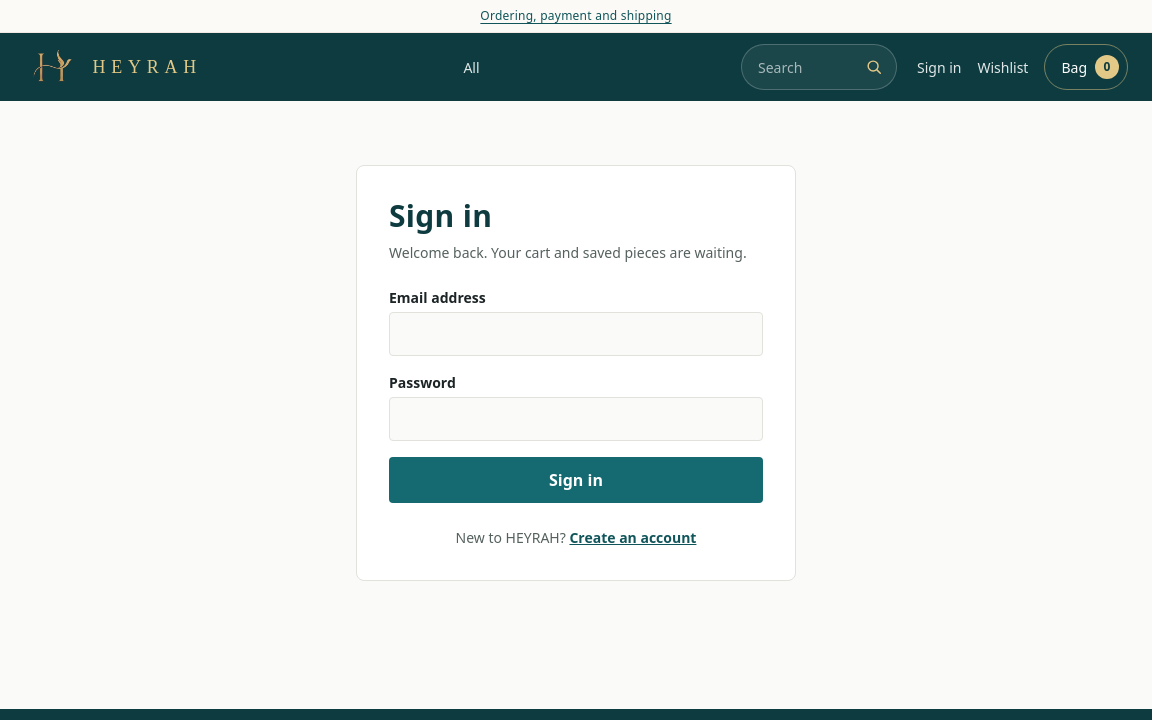
Test: LoginPage › submits credentials and shows a generic failure on invalid login
Type "amira@example.com" into the field labelled "Email address" at (576, 334), box [389, 312, 763, 356]
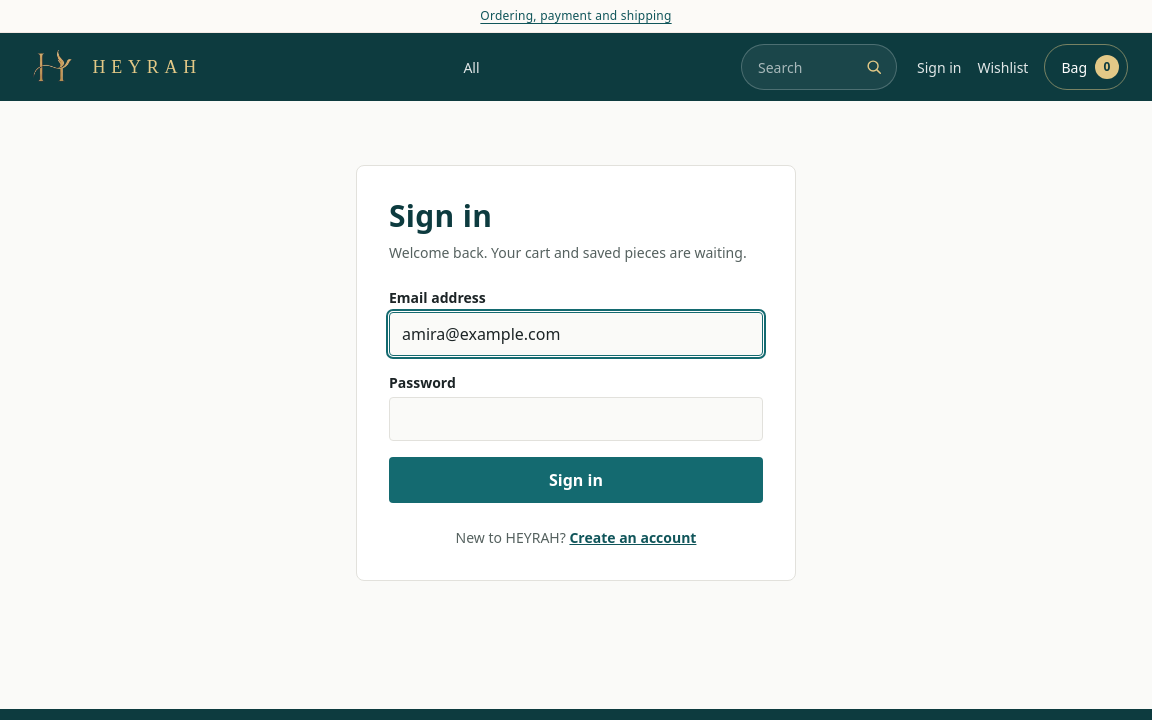
Type "wrong-pass" into the password field labelled "Password" at (576, 419), box [389, 397, 763, 441]
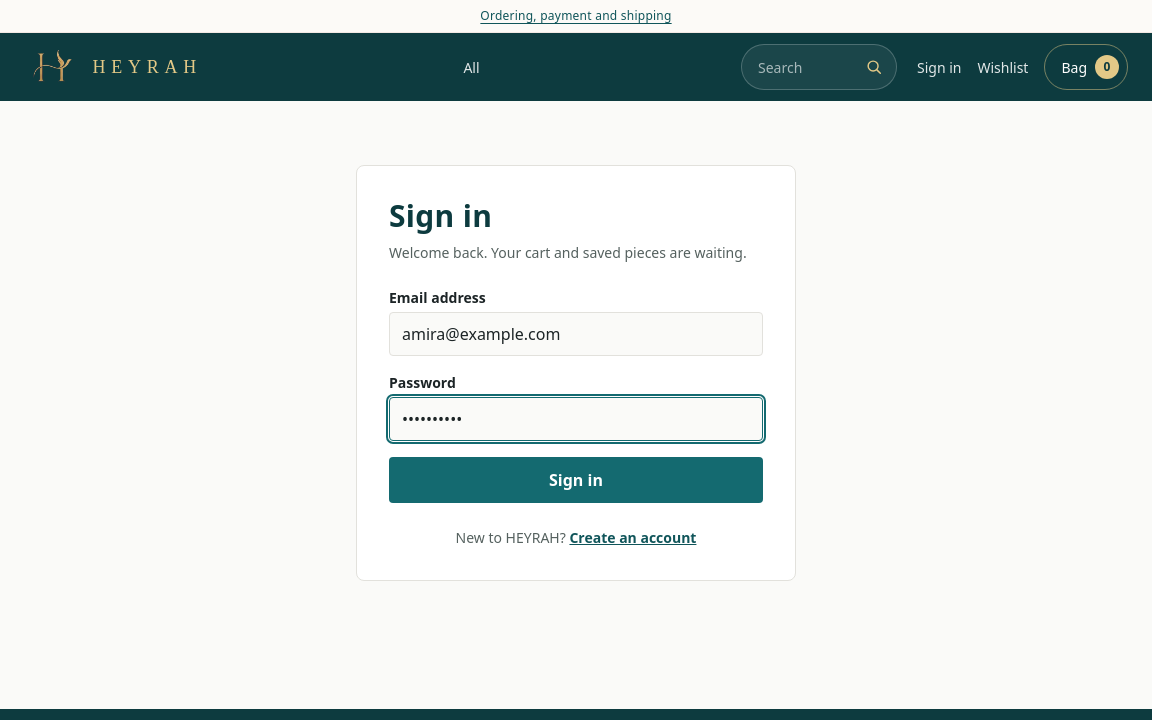
Click the button "Sign in" at (576, 480), box [389, 457, 763, 503]
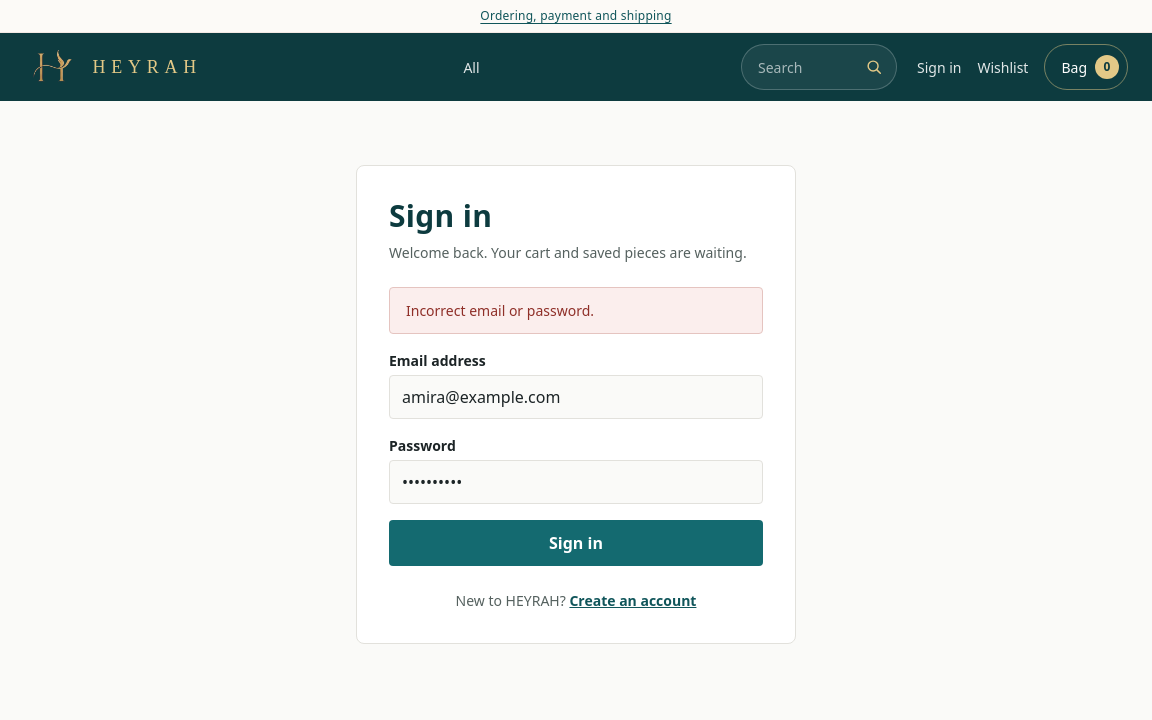
Expected: the message reads "Incorrect email or password.", [406, 301, 594, 320]
